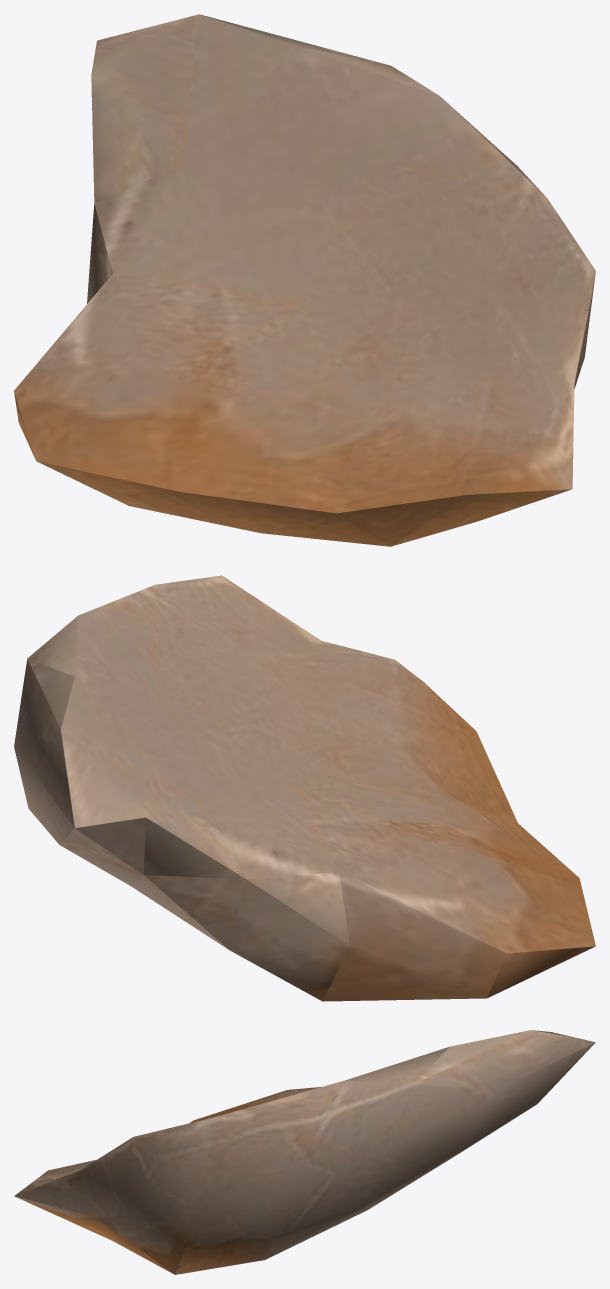
File: cascote_0.glb
The picture shows the model from 3 angles, top to bottom: view 1: azimuth 30°, elevation 25°; view 2: azimuth 150°, elevation 25°; view 3: azimuth 270°, elevation 25°; orthographic projection. The views are drawn at different scales.
Visible parts, largest first — view 1: cascote_0_malla; view 2: cascote_0_malla; view 3: cascote_0_malla.
Boxes of the visible parts, left/top/right/bottom form: cascote_0_malla: left=14, top=14, right=595, bottom=546; cascote_0_malla: left=14, top=575, right=595, bottom=1001; cascote_0_malla: left=14, top=1030, right=595, bottom=1274.
Bounding box in the file's own units: 0.1317 × 0.0815 × 0.1864.
Materials: 1 (1 with a texture image).
